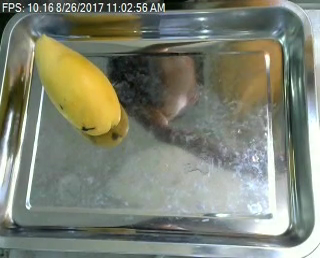Mango: (30, 32, 129, 137)
